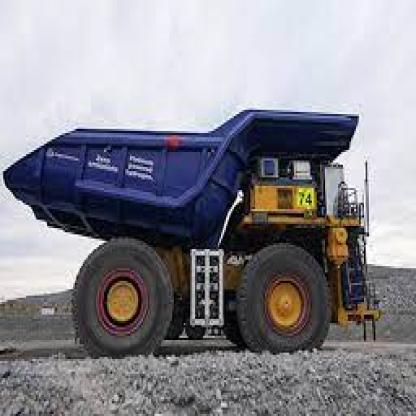dump_truck: (8, 116, 416, 416)
